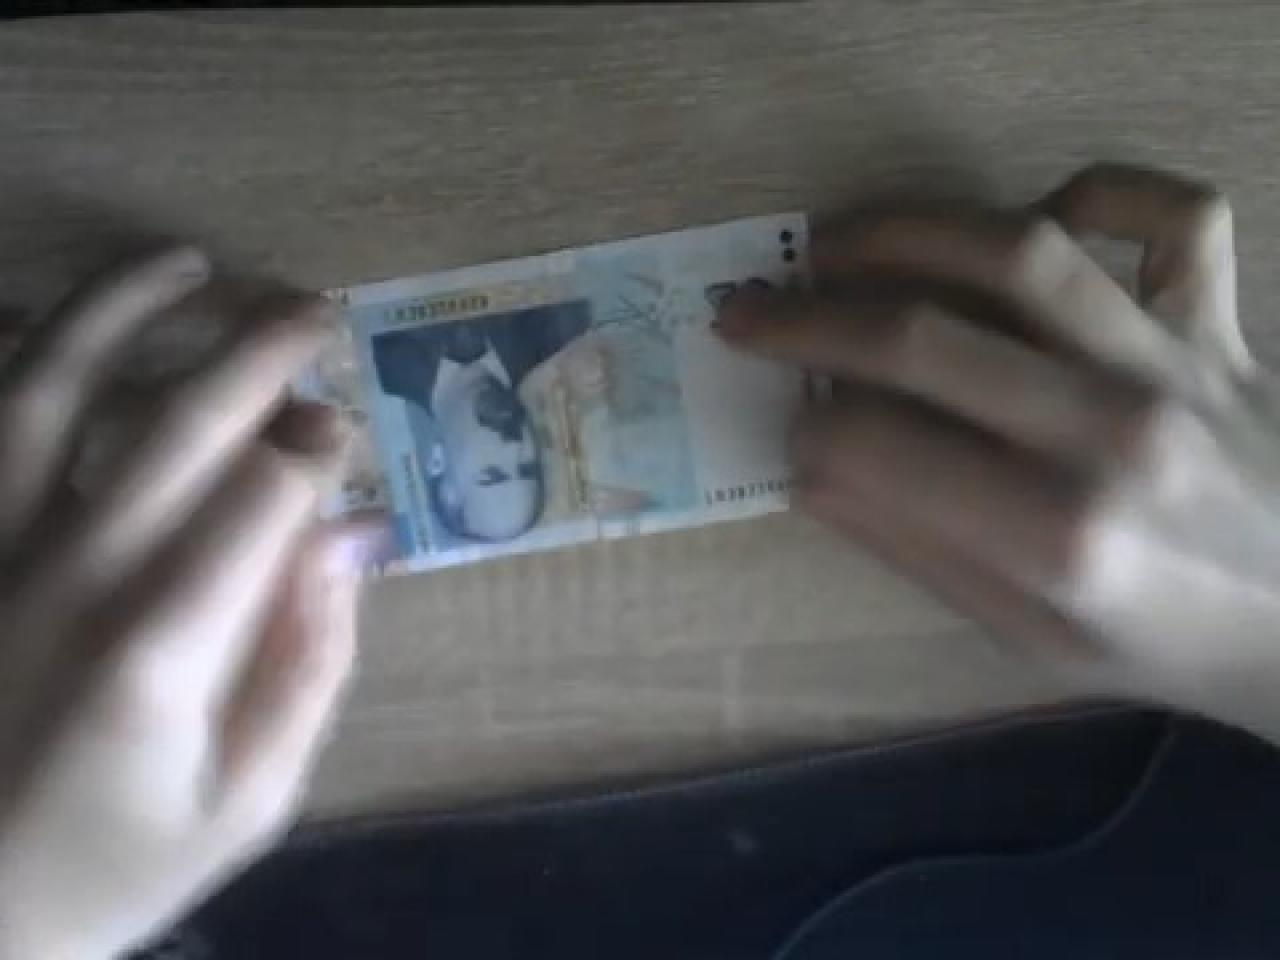20leva: (368, 298, 598, 550)
